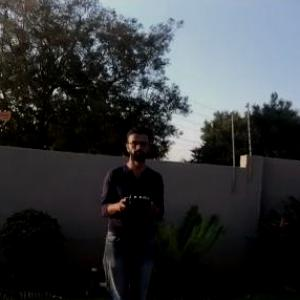follow: (100, 120, 173, 299)
